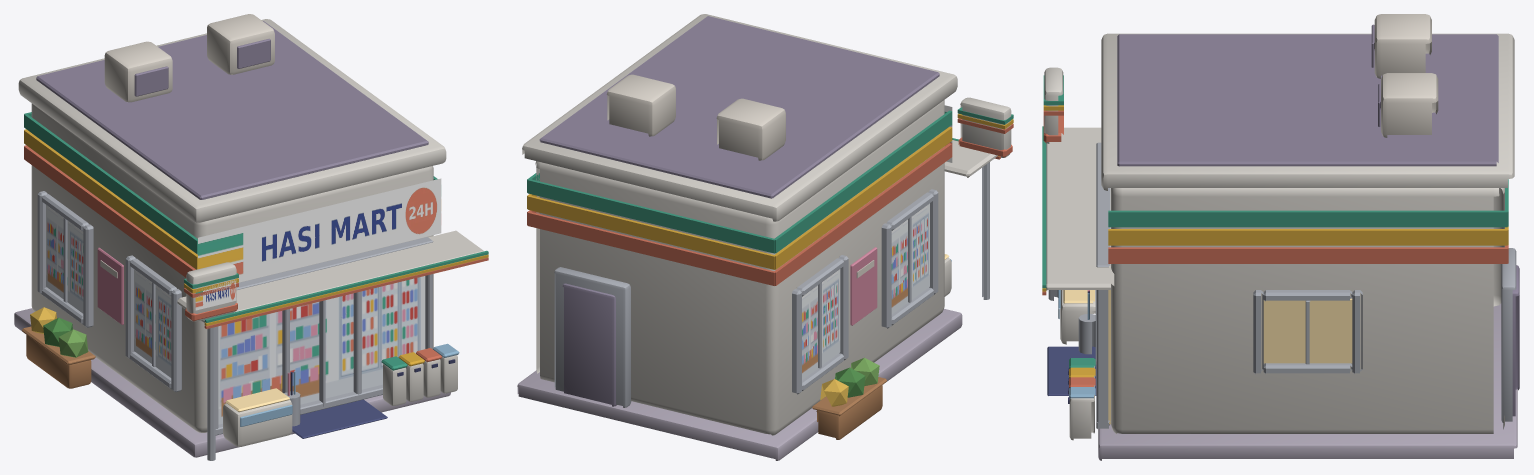
Rendered from ac_convenience_r90.glb.
The picture shows the model from 3 angles, left to right: view 1: azimuth 30°, elevation 25°; view 2: azimuth 150°, elevation 25°; view 3: azimuth 270°, elevation 25°; orthographic projection. The views are drawn at different scales.
Parts seen in each view (by area): view 1: box; view 2: box; view 3: box.
Part boxes in pixels (x1,y1,x2,y2): box: [14, 14, 488, 460]; box: [517, 14, 1013, 460]; box: [1042, 14, 1519, 460].
Bounding box in the file's own units: 6.21 × 5.83 × 7.51.
4 materials, 2 textured.
